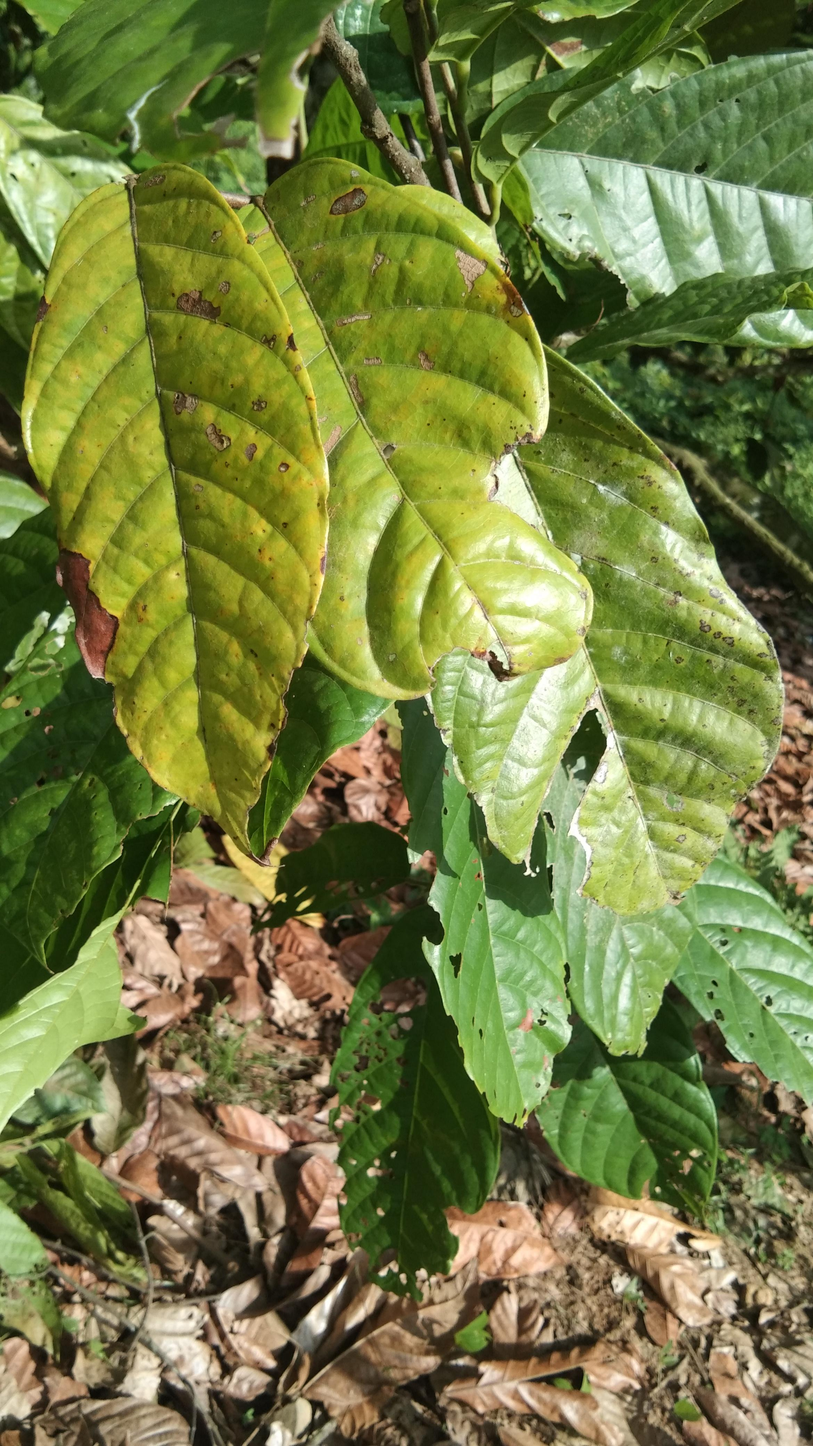deficiencia_potasio: (19, 161, 334, 862)
